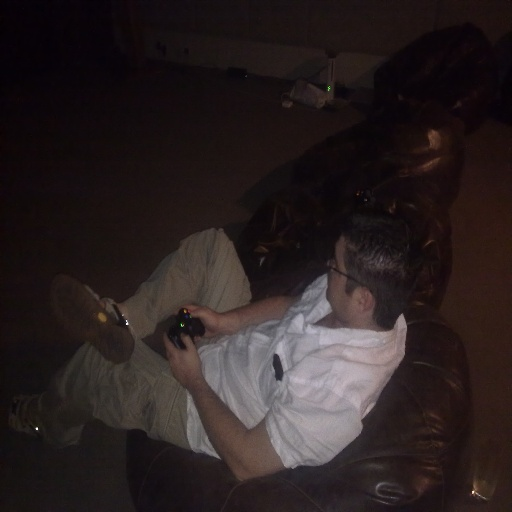hand: (160, 328, 204, 398), (172, 307, 222, 342)
